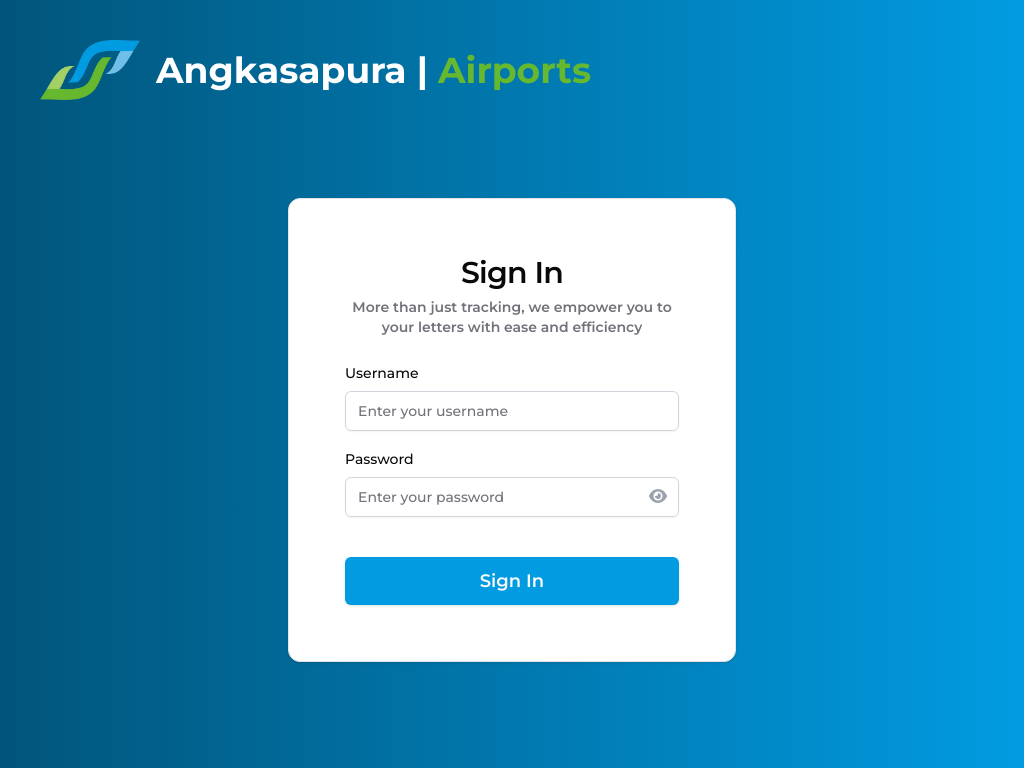
Scenario: Login Page › should display an error message when login fails
Type "wronguser" into the field labelled "Username" at (512, 411), box [345,391,679,431]
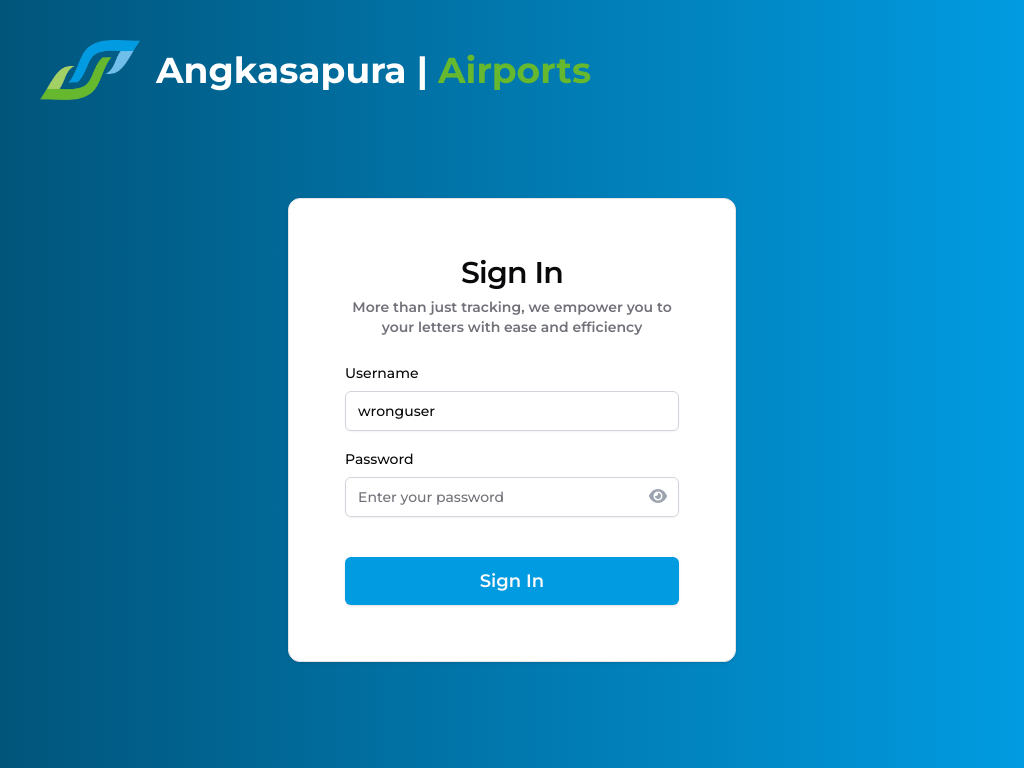
Type "wrongpassword" into the password field labelled "Password" at (512, 497), box [345,477,679,517]
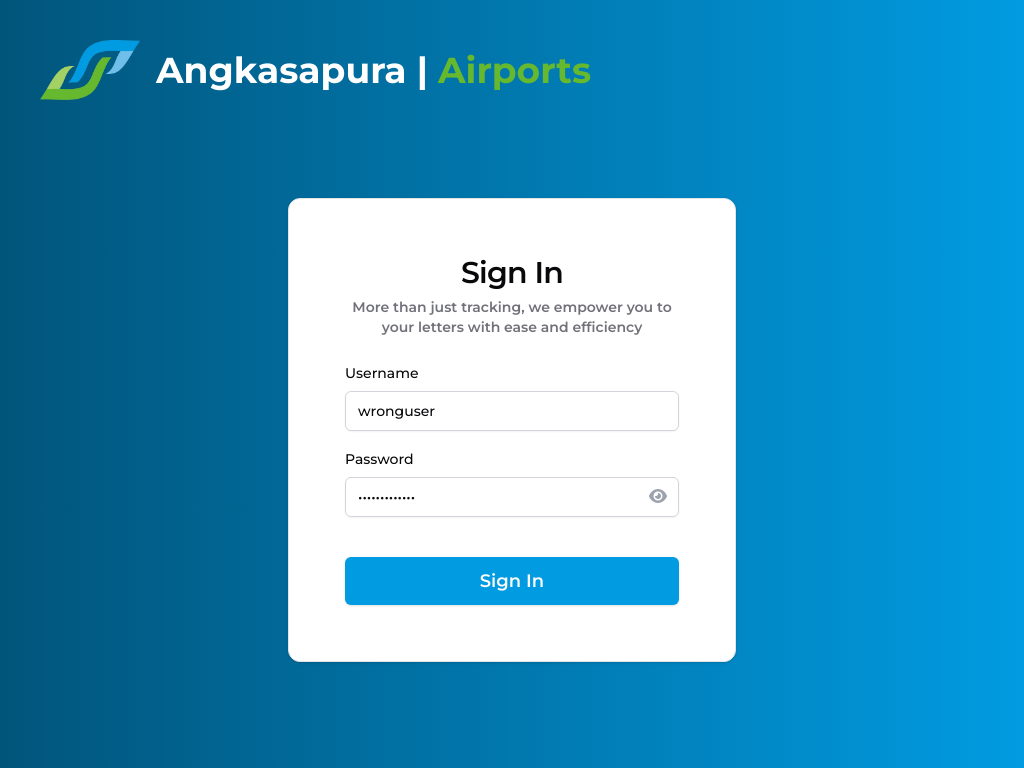
Click the button "Sign In" at (512, 581), box [345,557,679,605]
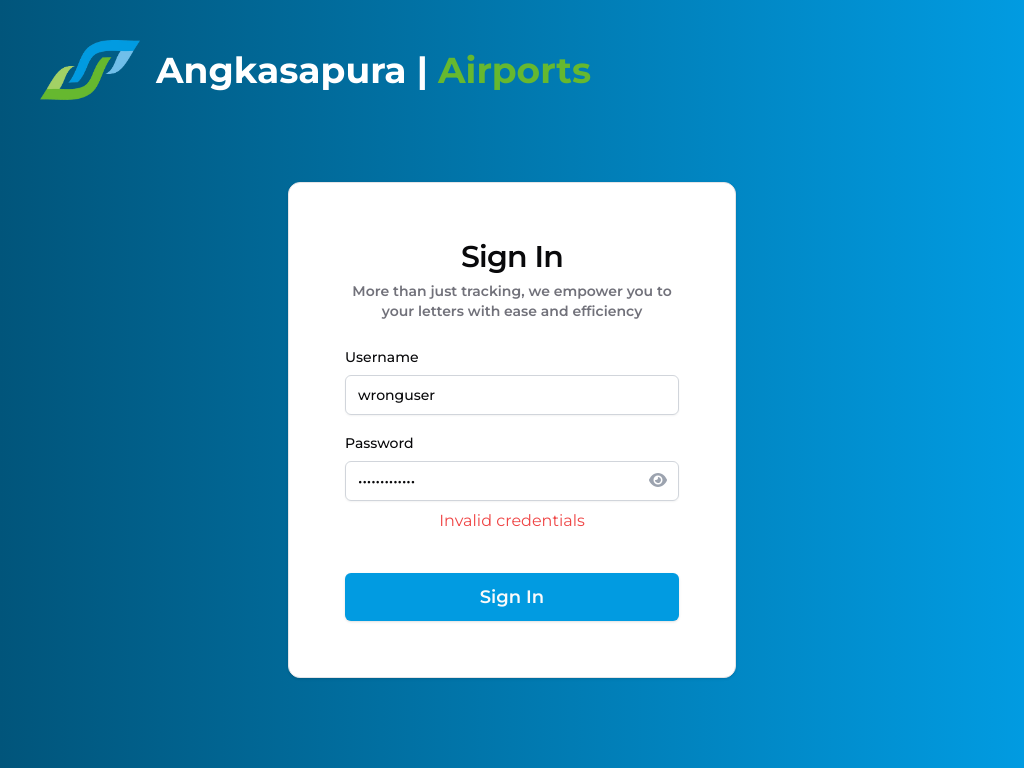
Expected: the text "Invalid credentials" is shown, [439,511,585,530]
